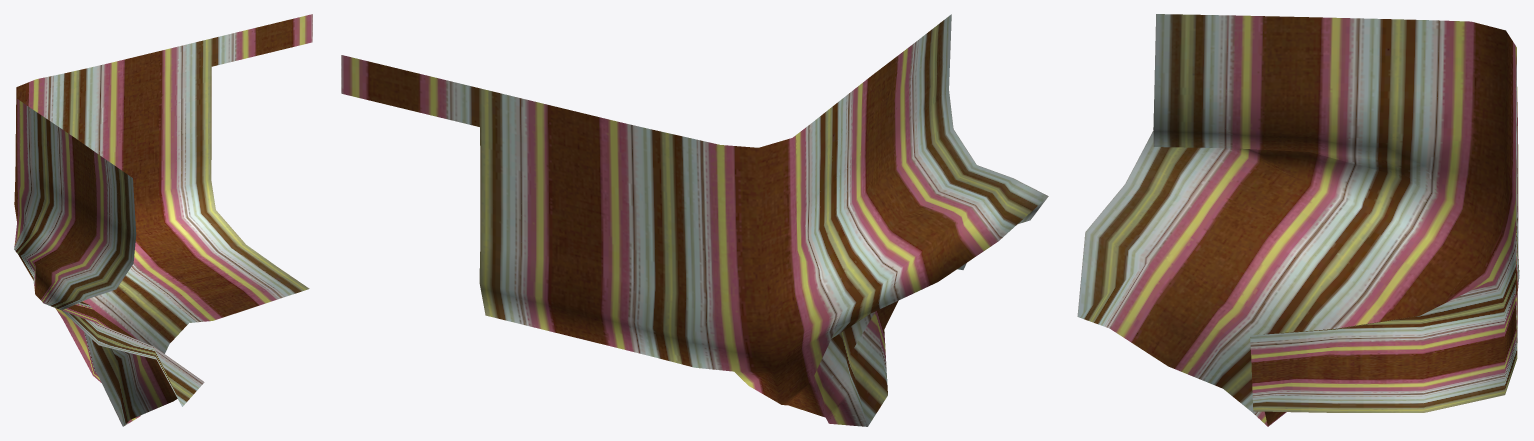
The model's file is bedsheet03.glb.
The picture shows the model from 3 angles, left to right: view 1: azimuth 30°, elevation 25°; view 2: azimuth 150°, elevation 25°; view 3: azimuth 270°, elevation 25°; orthographic projection. The views are drawn at different scales.
Visible parts, largest first — view 1: bedsheet03; view 2: bedsheet03; view 3: bedsheet03.
Part boxes in pixels (bbox=[...]): bedsheet03: bbox=[14, 14, 312, 426]; bedsheet03: bbox=[341, 14, 1048, 426]; bedsheet03: bbox=[1077, 14, 1519, 426].
Size of the model in its own units: 0.7191 by 0.5039 by 0.5283.
Materials: 1 (1 with a texture image).
